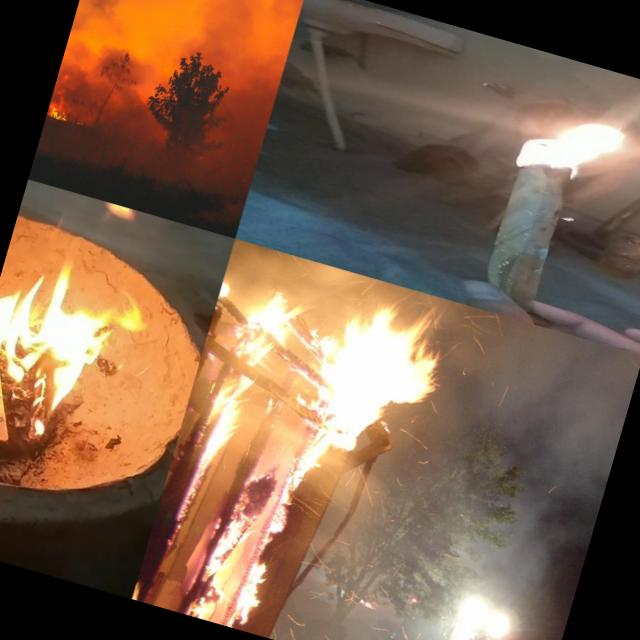fire: (205, 250, 450, 482), (0, 242, 168, 438), (198, 438, 328, 640), (487, 77, 640, 197), (162, 387, 260, 546), (45, 185, 155, 238), (215, 262, 249, 314), (132, 566, 156, 602), (45, 102, 72, 125)
smoke: (401, 301, 640, 536), (278, 462, 568, 640), (50, 0, 171, 126), (221, 0, 308, 134)
